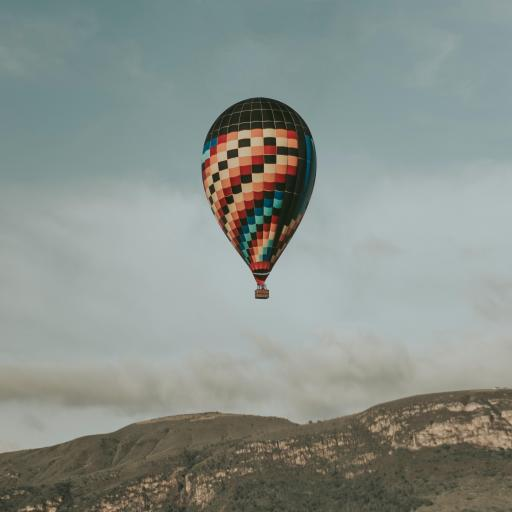hot air ballon: (201, 95, 317, 299)
